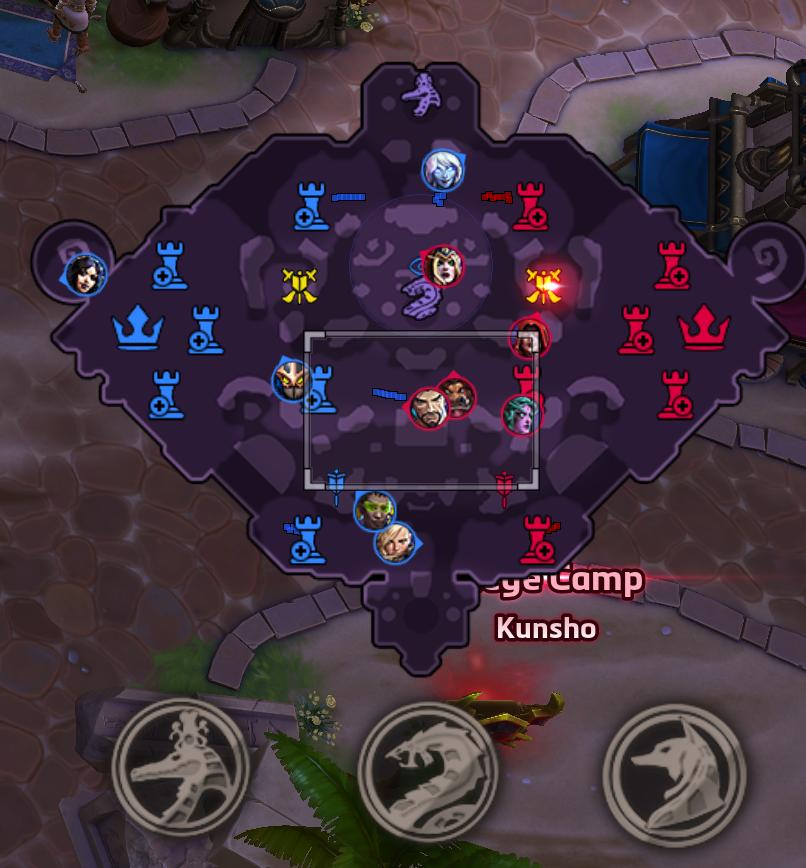blue nexus: (110, 301, 166, 351)
blue player: (62, 251, 108, 297), (421, 148, 465, 193), (270, 356, 310, 404), (373, 521, 417, 564), (353, 490, 395, 532)
blue tower: (284, 512, 326, 564), (186, 302, 225, 355), (147, 367, 186, 419), (150, 238, 189, 290), (292, 180, 330, 231), (305, 362, 338, 414)
red nexus: (676, 303, 731, 351)
red player: (420, 243, 464, 289), (509, 313, 551, 360), (436, 373, 477, 419), (407, 386, 448, 431), (501, 394, 539, 437)
red tower: (518, 513, 561, 566), (510, 179, 549, 232), (616, 303, 655, 355), (652, 238, 691, 290), (656, 368, 694, 420)
